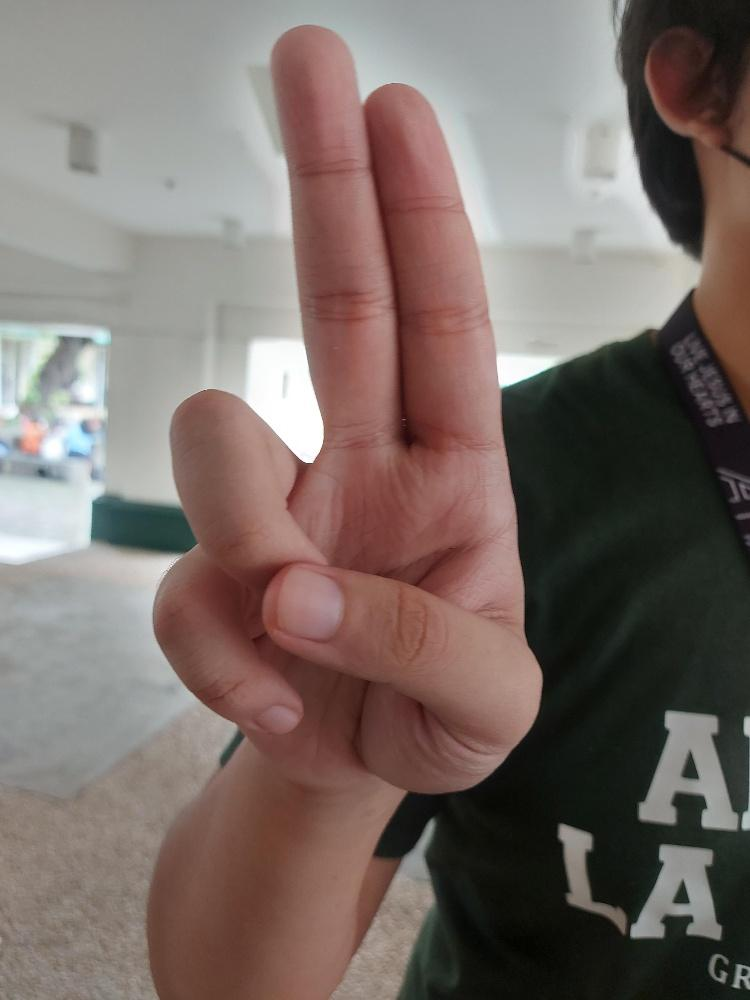u: (148, 18, 546, 797)
